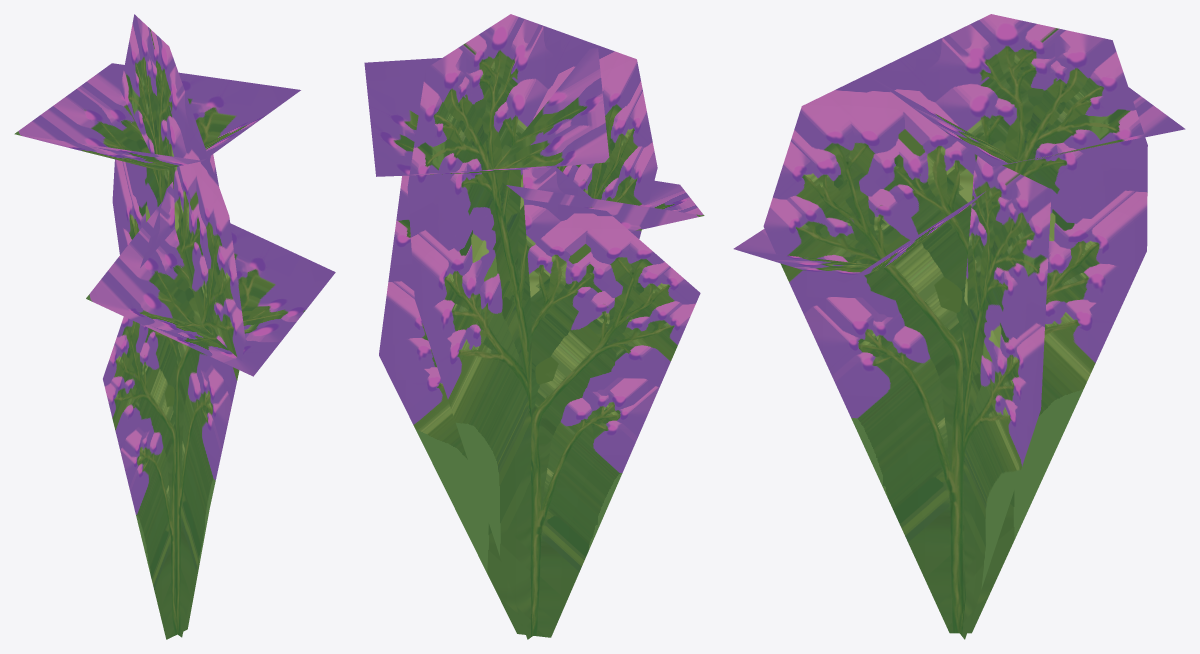
The model's file is MEADOW_SM_Flower_10_01.gltf.
3 renders of one model, left to right at view 1: azimuth 30°, elevation 25°; view 2: azimuth 150°, elevation 25°; view 3: azimuth 270°, elevation 25°, orthographic. The views are drawn at different scales.
Visible parts, largest first — view 1: SM_Flower_10_01_LOD0; view 2: SM_Flower_10_01_LOD0; view 3: SM_Flower_10_01_LOD0.
Part boxes in pixels (box(x1,y1,x2,y2)): SM_Flower_10_01_LOD0: box(14, 14, 335, 639); SM_Flower_10_01_LOD0: box(364, 14, 704, 639); SM_Flower_10_01_LOD0: box(733, 14, 1185, 639).
Size of the model in its own units: 0.452 by 0.9468 by 0.6232.
Materials: 1 (1 with a texture image).
